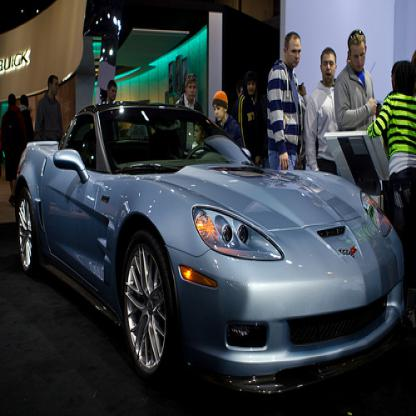Vehicle: (9, 94, 408, 407)
